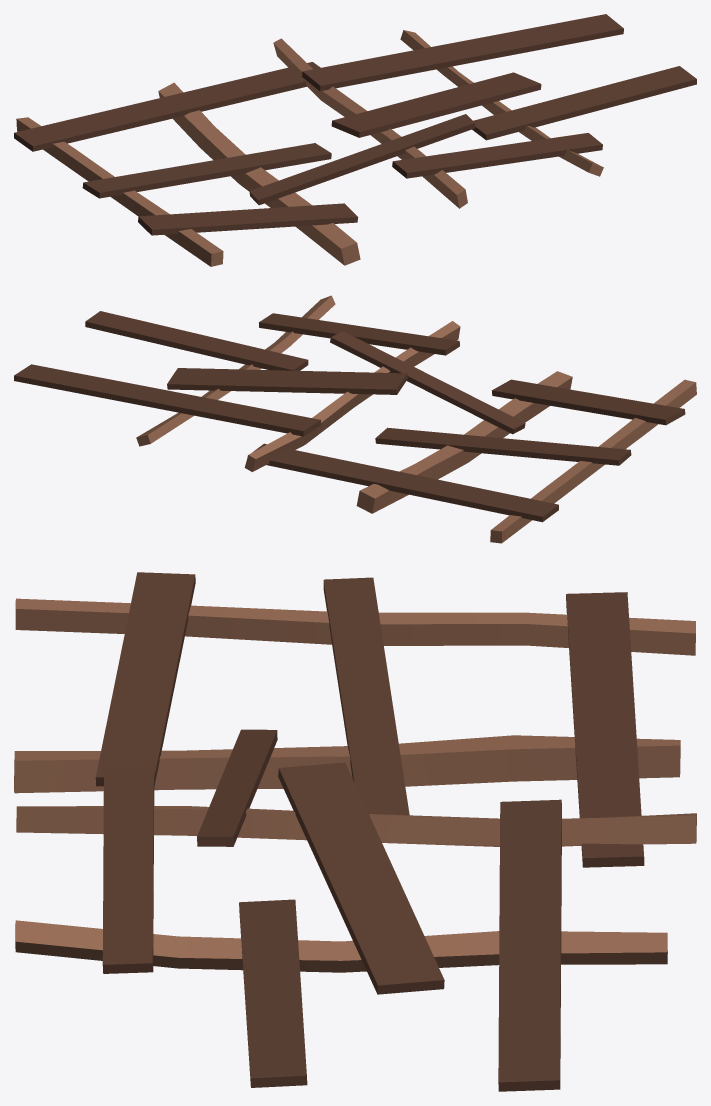
The model's file is Hedge.FBX.
3 renders of one model, top to bottom at view 1: azimuth 30°, elevation 25°; view 2: azimuth 150°, elevation 25°; view 3: azimuth 270°, elevation 25°, orthographic. The views are drawn at different scales.
Visible parts, largest first — view 1: Hedge; view 2: Hedge; view 3: Hedge.
Boxes of the visible parts, x1=… form: Hedge: x1=14, y1=14, x2=696, y2=266; Hedge: x1=14, y1=295, x2=696, y2=543; Hedge: x1=14, y1=572, x2=696, y2=1091.
Bounding box in the file's own units: 254 × 25.08 × 152.
